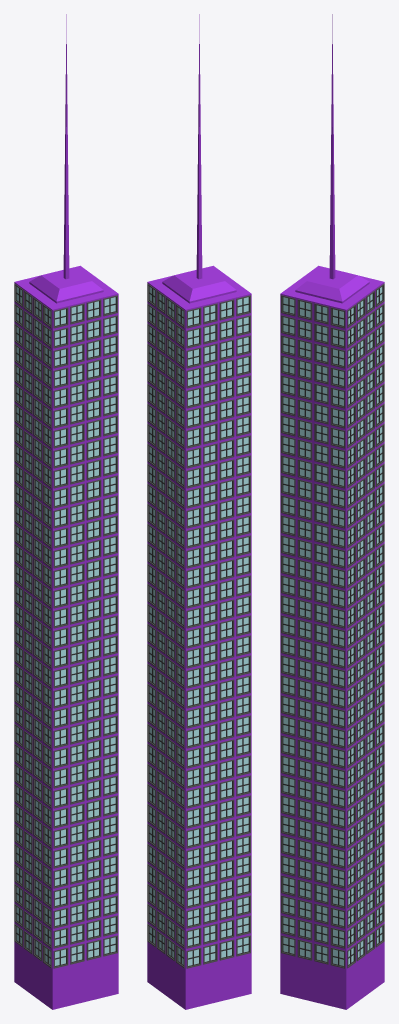
Rendered from Scraper Prp.fbx.
3 views of the same model, side by side, from view 1: azimuth 30°, elevation 25°; view 2: azimuth 210°, elevation 25°; view 3: azimuth 330°, elevation 25° (orthographic).
Visible parts, largest first — view 1: Cube.002; view 2: Cube.002; view 3: Cube.002.
Part boxes in pixels (x1=…): Cube.002: x1=14, y1=14, x2=118, y2=1009; Cube.002: x1=147, y1=14, x2=251, y2=1009; Cube.002: x1=280, y1=14, x2=384, y2=1009.
Bounding box in the file's own units: 1332 × 18371 × 1332.
